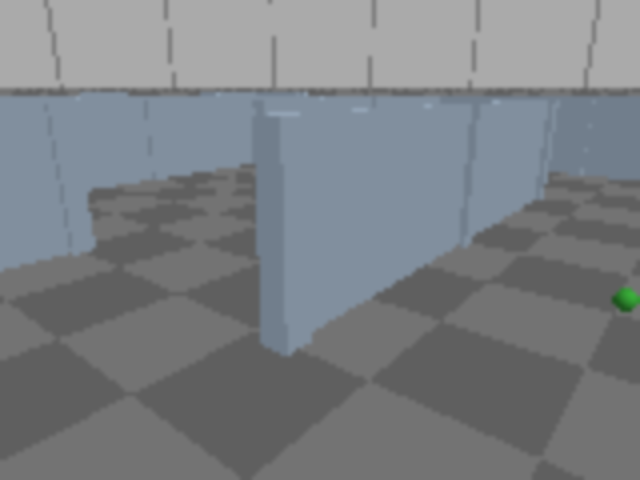puck: (610, 284, 638, 317)
